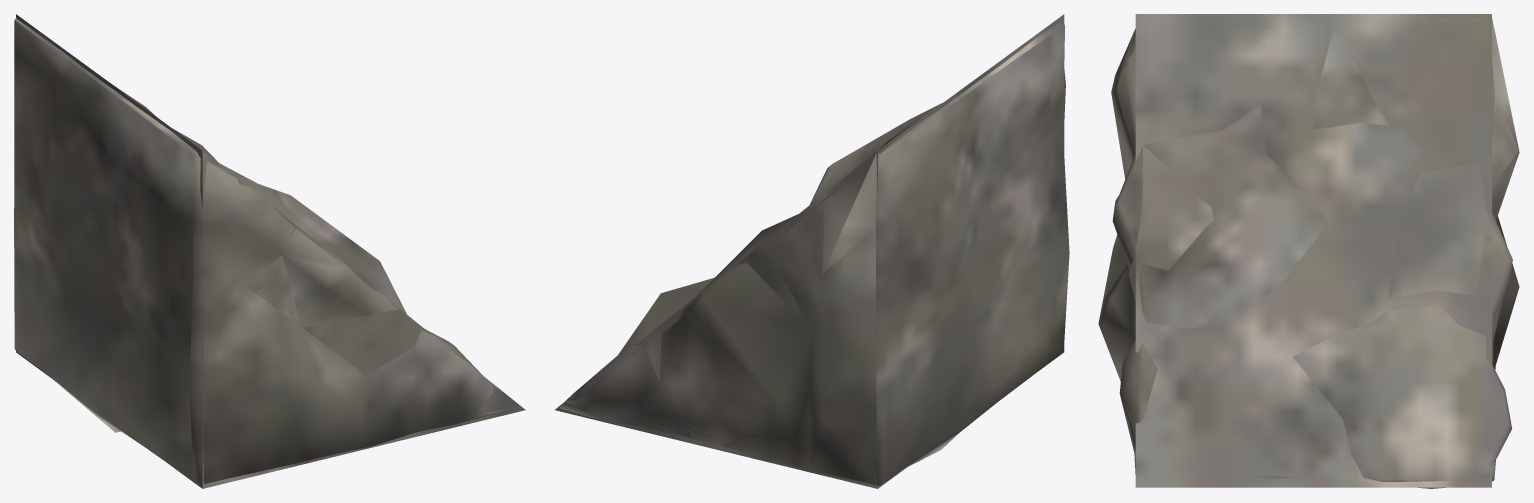
The model's file is 1x1_stone_block.fbx.
The picture shows the model from 3 angles, left to right: view 1: azimuth 30°, elevation 25°; view 2: azimuth 150°, elevation 25°; view 3: azimuth 270°, elevation 25°; orthographic projection. The views are drawn at different scales.
Parts seen in each view (by area): view 1: _1x1_high, _1x1_low; view 2: _1x1_high, _1x1_low; view 3: _1x1_low, _1x1_high.
Part boxes in pixels (x1,y1,x2,y2): _1x1_high: (14,18,516,485); _1x1_low: (16,14,525,488); _1x1_high: (560,24,1069,485); _1x1_low: (555,14,1064,488); _1x1_low: (1135,14,1491,487); _1x1_high: (1098,18,1519,488).
Bounding box in the file's own units: 1.05 × 1.08 × 1.18.
